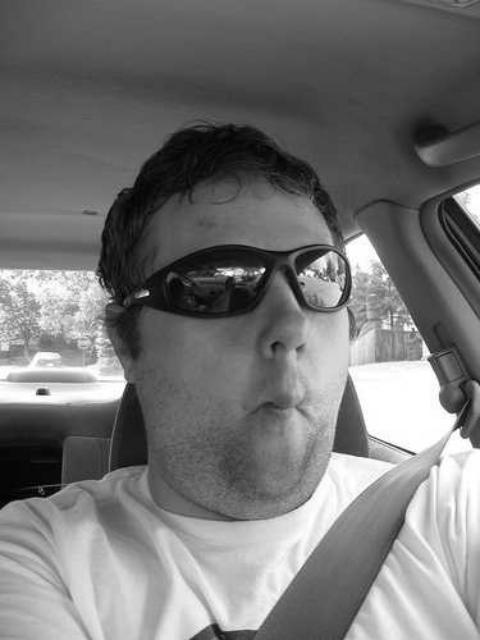Seatbelt: (246, 344, 480, 640)
